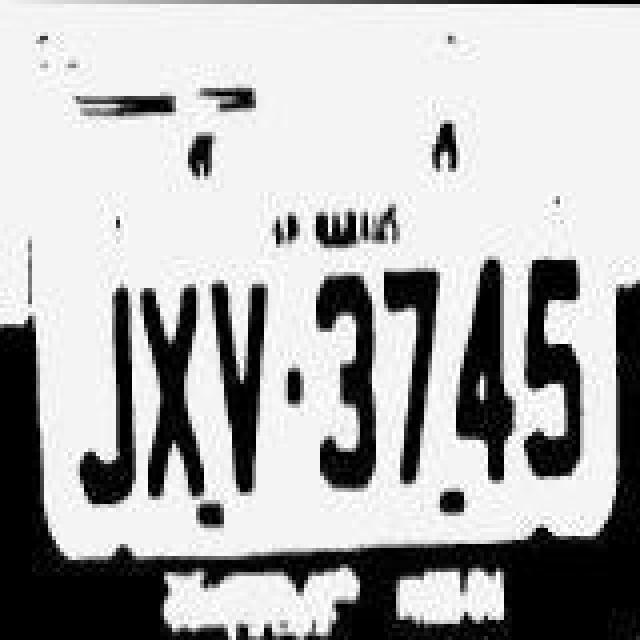3: (310, 266, 378, 506)
4: (450, 236, 518, 480)
5: (518, 234, 586, 478)
7: (378, 260, 446, 480)
J: (76, 280, 140, 520)
V: (210, 276, 278, 496)
X: (134, 276, 202, 500)
